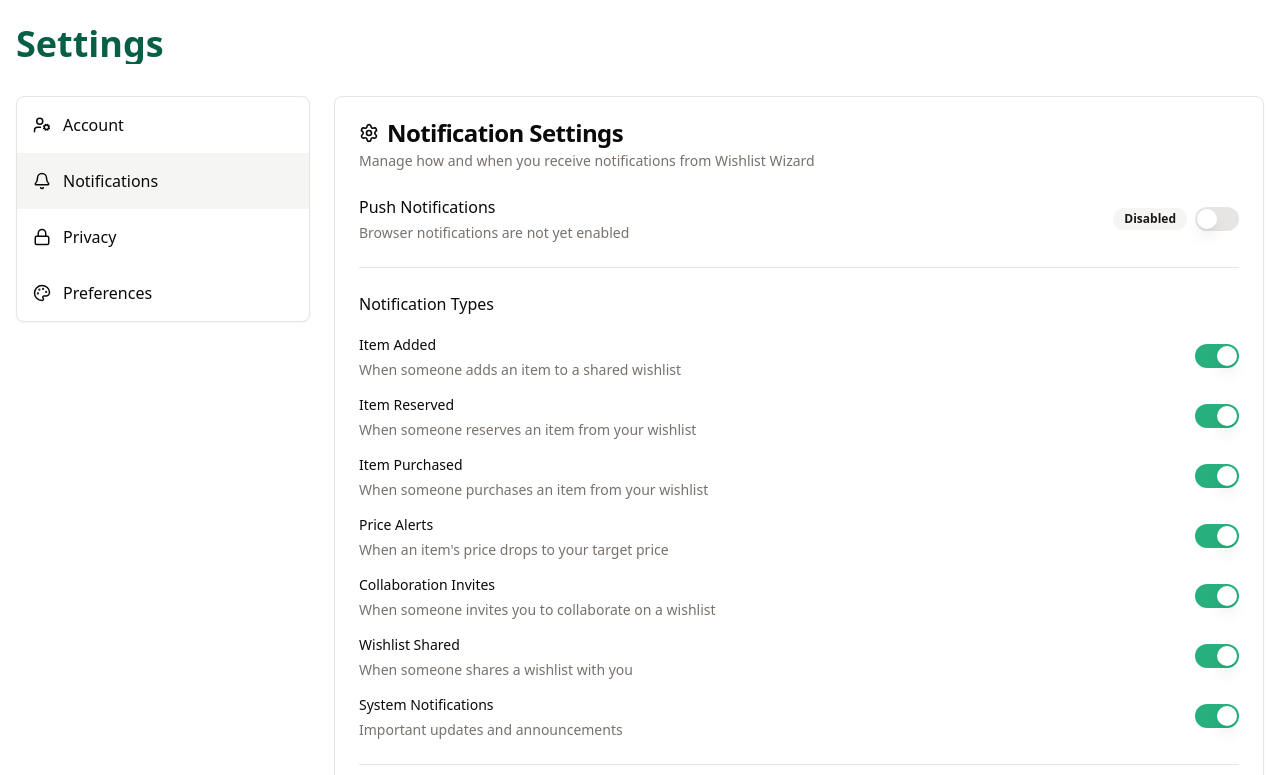
Test: Settings page (App Settings hub) › shows Default Privacy Preferences on the Privacy tab
Click the button with test id "settings-tab-privacy".
click(90, 237)  # box [17,209,309,265]
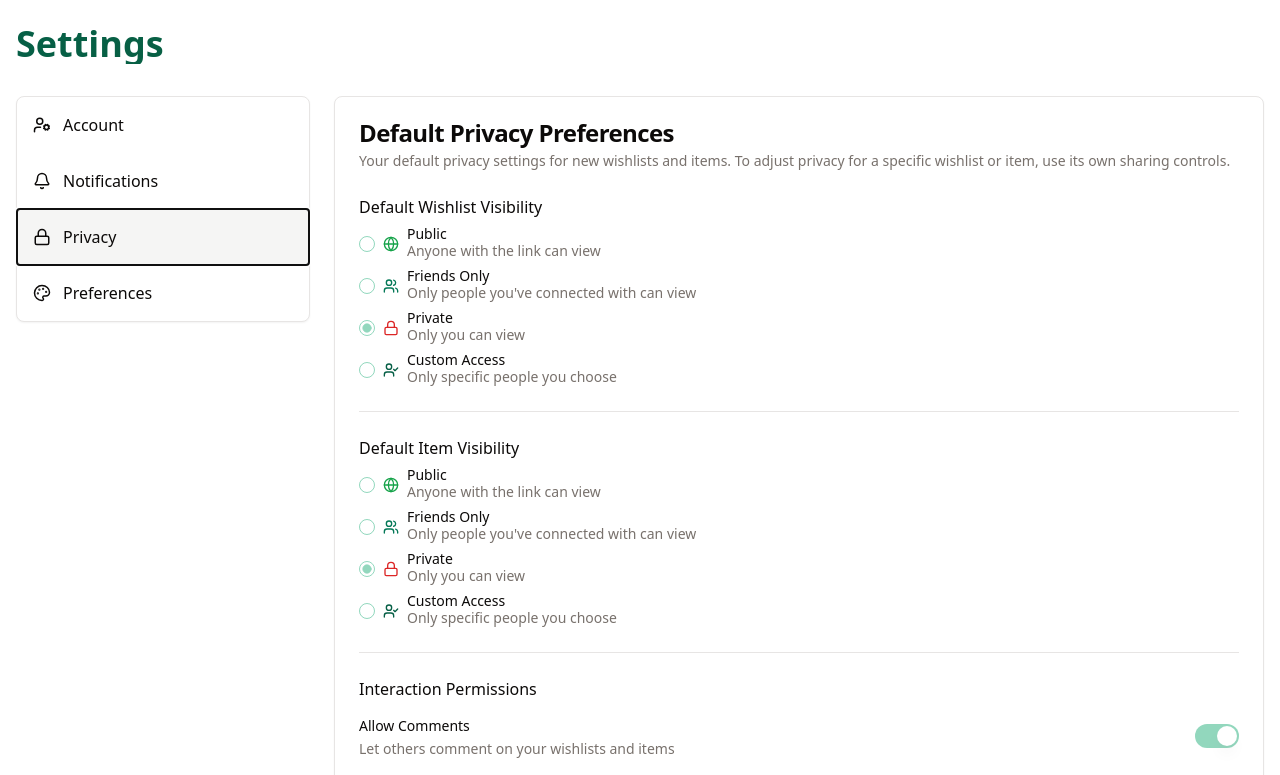
expect the text "Default Privacy Preferences" is shown: met, box [359,116,674,149]
